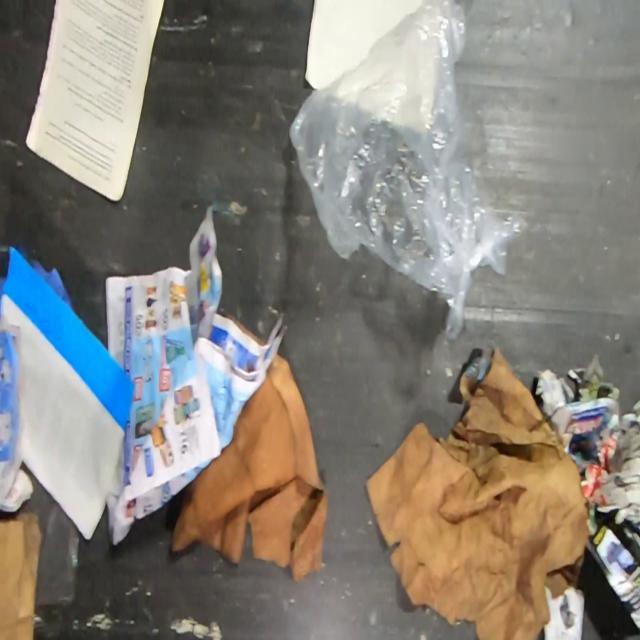cardboard: (0, 508, 44, 639)
soft_plastic: (286, 0, 531, 345), (0, 244, 139, 432), (21, 466, 81, 608), (0, 325, 24, 500), (30, 257, 75, 311)
